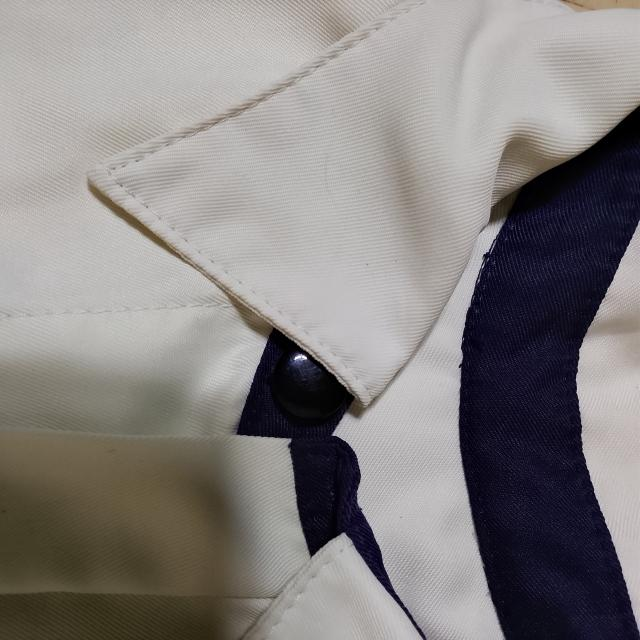education_male_uniform: (0, 493, 559, 640), (1, 600, 405, 640)
